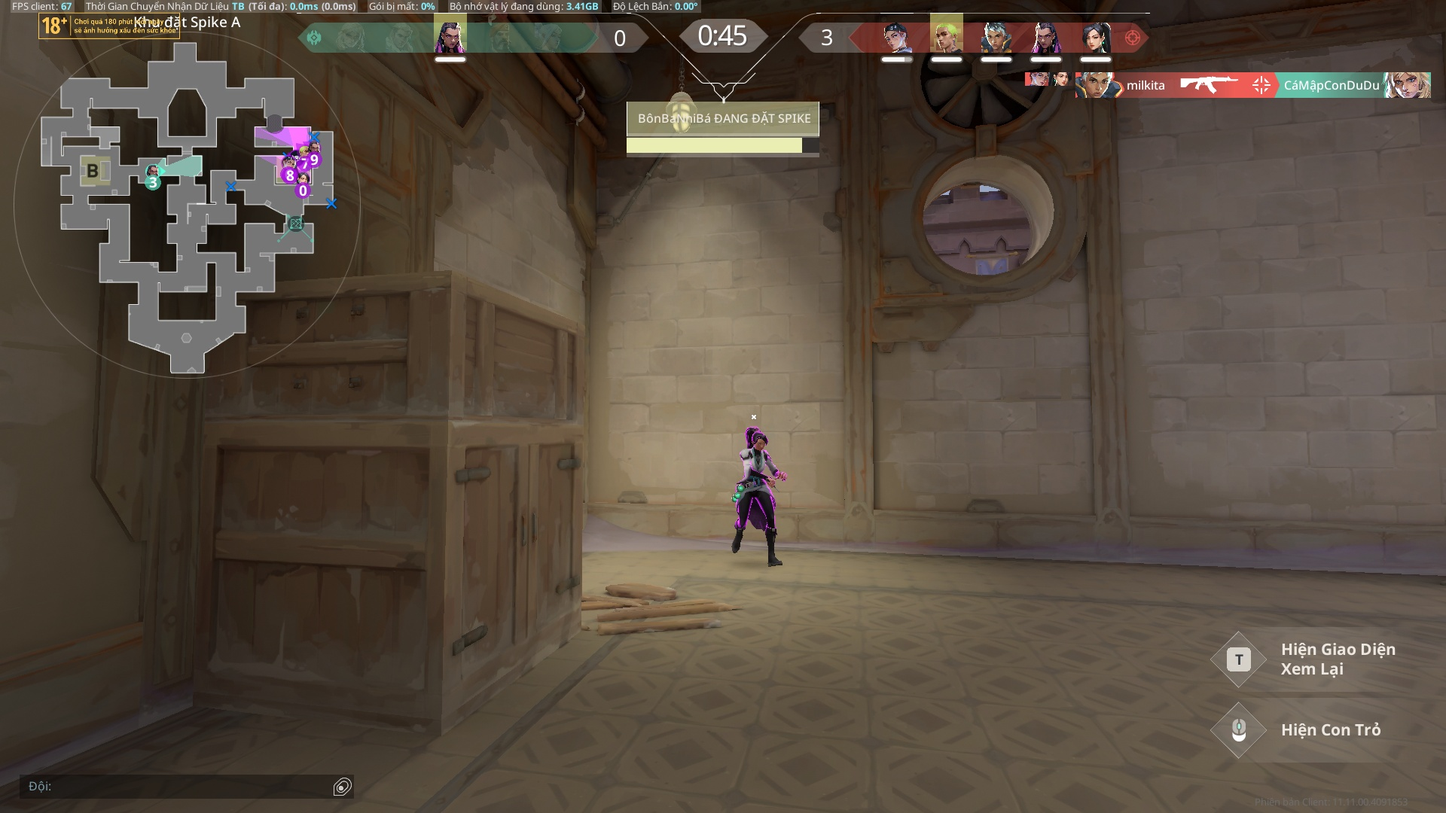body: (740, 446, 770, 476)
head: (750, 431, 766, 452)
